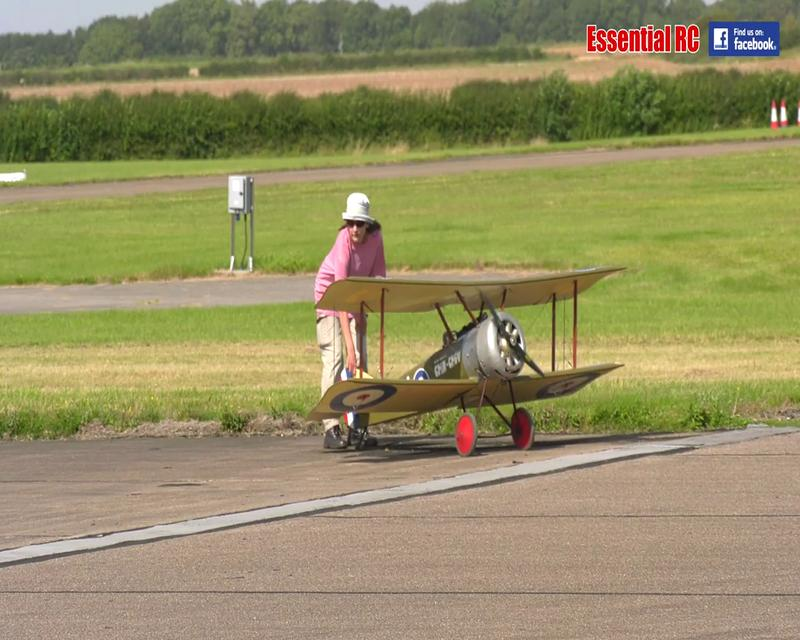UAV: (306, 265, 649, 457), (585, 22, 701, 54)
